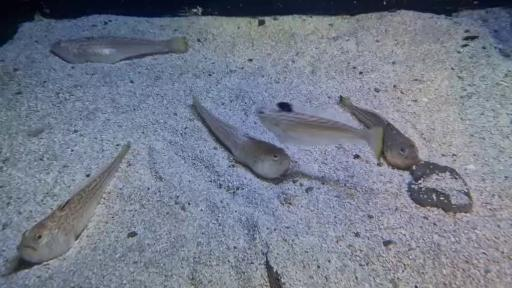Fish: (17, 142, 130, 264), (193, 96, 291, 179), (256, 102, 383, 159), (340, 96, 421, 170), (50, 36, 189, 64), (265, 252, 282, 287)
